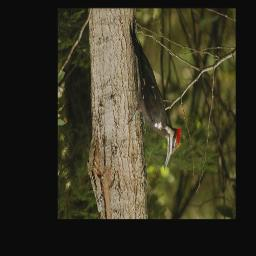Woodpecker: (124, 18, 183, 171)
